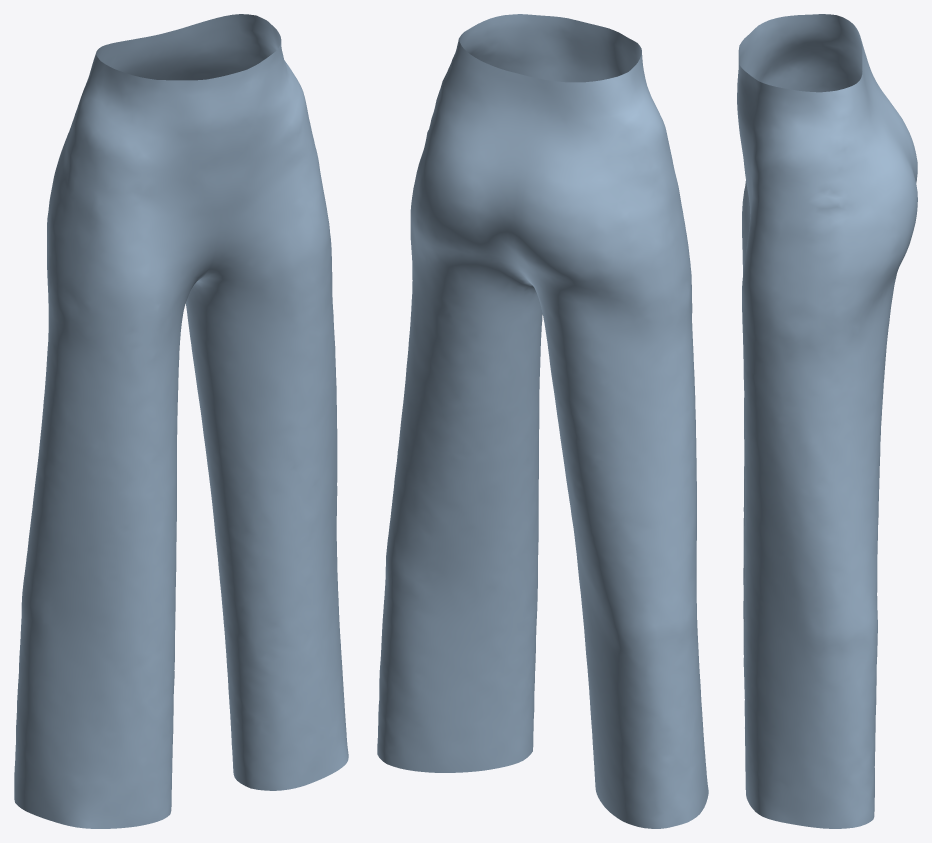
Rendered from trousers_XS.glb.
3 renders of one model, left to right at view 1: azimuth 30°, elevation 25°; view 2: azimuth 150°, elevation 25°; view 3: azimuth 270°, elevation 25°, orthographic. The views are drawn at different scales.
Visible parts, largest first — view 1: geometry_0; view 2: geometry_0; view 3: geometry_0.
Boxes of the visible parts, bbox=[...] form: geometry_0: bbox=[14, 14, 348, 828]; geometry_0: bbox=[377, 14, 708, 828]; geometry_0: bbox=[737, 14, 917, 828].
Bounding box in the file's own units: 0.4451 × 0.9973 × 0.2308.
